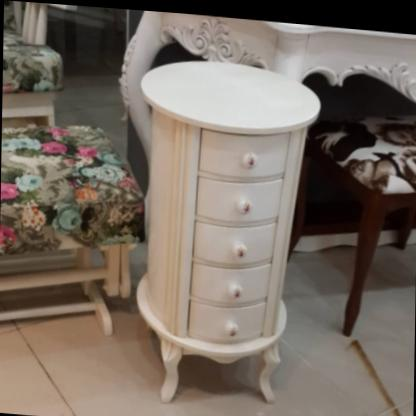Nightstand: (138, 54, 320, 412)
